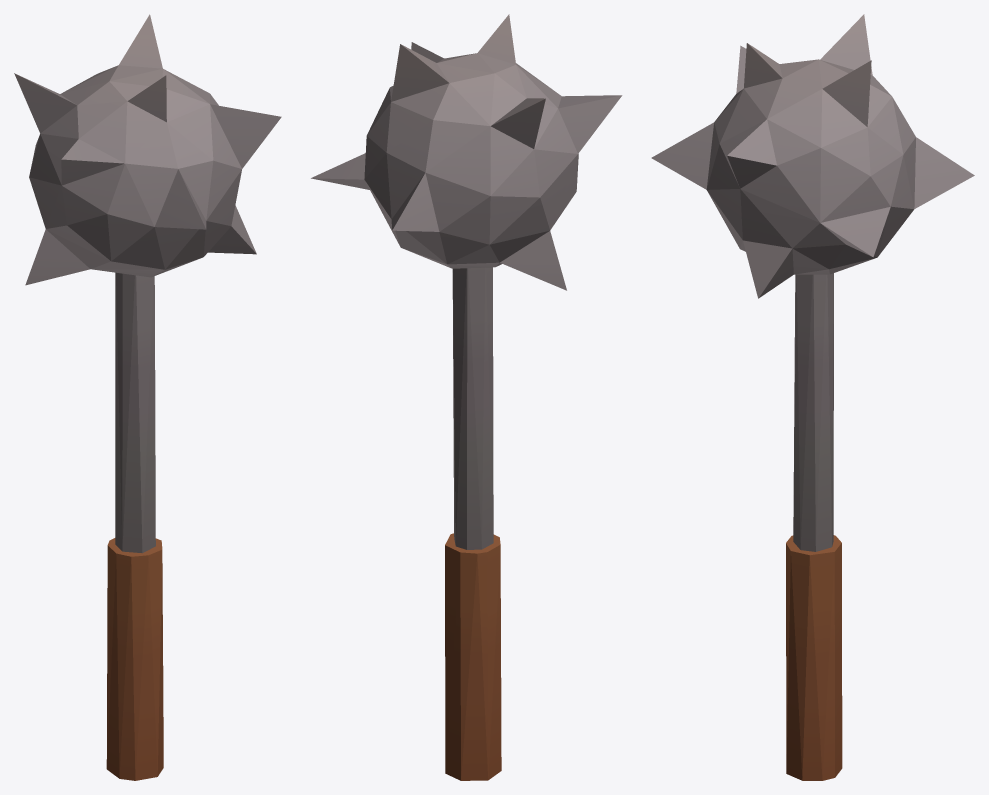
The model's file is SM_Mace_01.gltf.
3 views of the same model, side by side, from view 1: azimuth 30°, elevation 25°; view 2: azimuth 150°, elevation 25°; view 3: azimuth 270°, elevation 25° (orthographic).
Visible parts, largest first — view 1: SM_Mace_01; view 2: SM_Mace_01; view 3: SM_Mace_01.
Part boxes in pixels (x1,y1,x2,y2): SM_Mace_01: (14, 14, 281, 780); SM_Mace_01: (311, 14, 622, 780); SM_Mace_01: (651, 14, 974, 780).
Bounding box in the file's own units: 0.2987 × 0.8575 × 0.3446.
